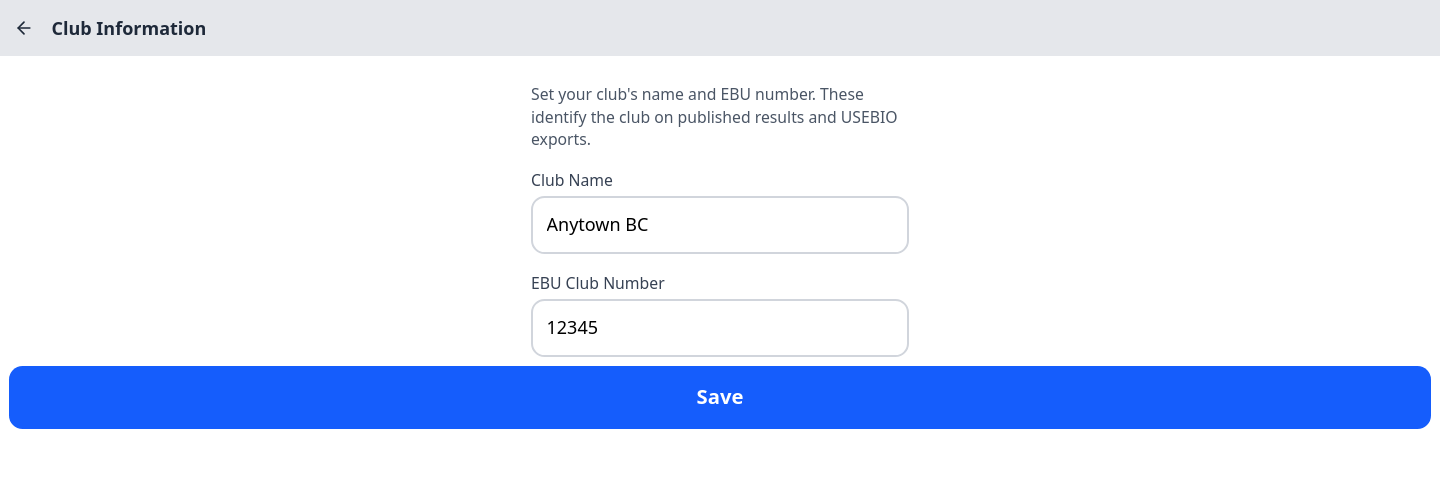
it: ClubSettingsPage › shows the server error message on a non-401 failure
The width and height of the screenshot is (1440, 491).
What coordinates should you click on to do the following:
click the button "Save"
I would click on:
 (720, 397)
Its box is [9, 366, 1431, 428].
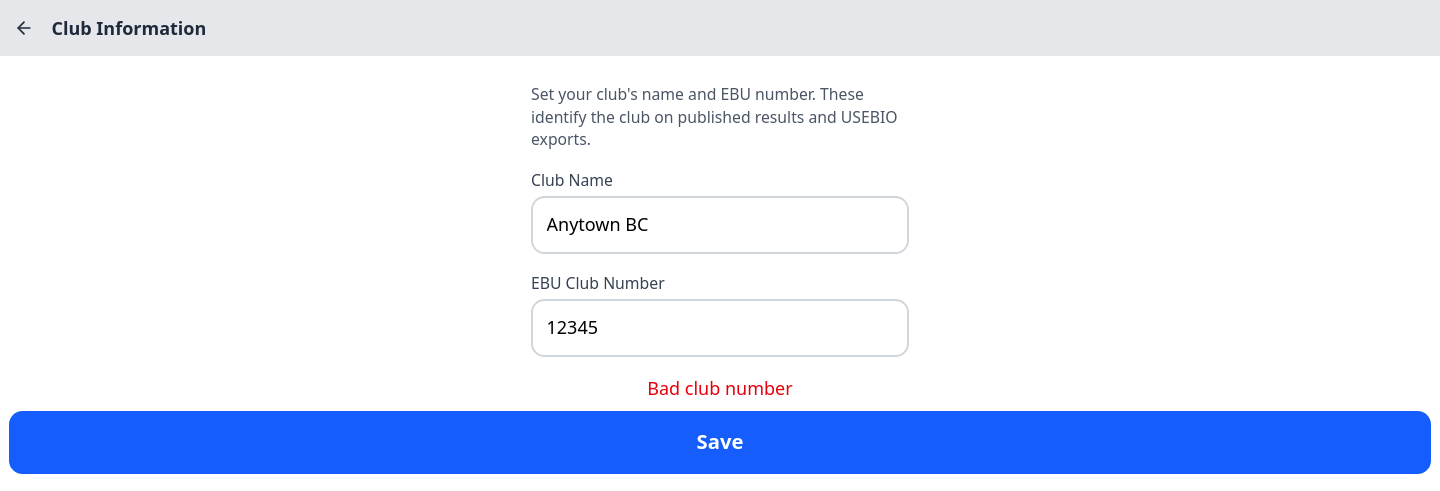
Now the text "Bad club number" is shown, box [647, 376, 793, 400]
